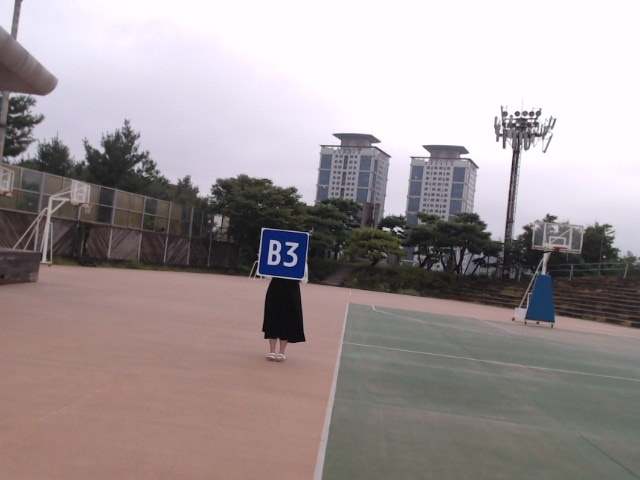delivery_b3: (257, 227, 310, 280)
